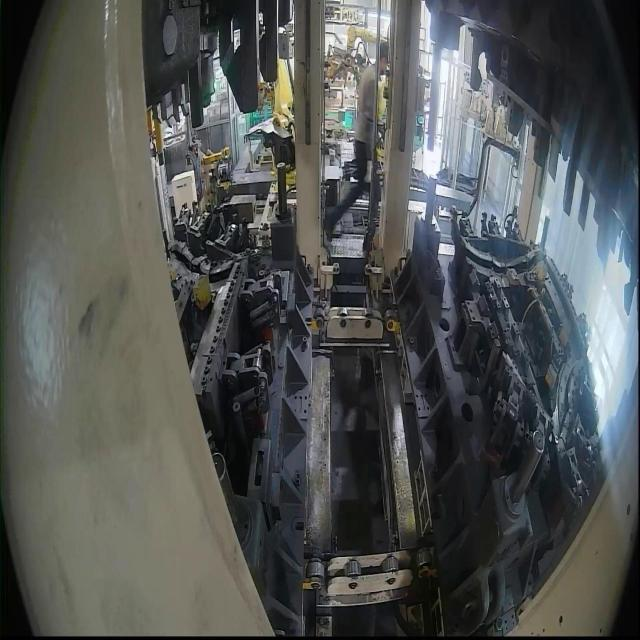Person: (324, 40, 389, 240), (354, 40, 389, 196)
